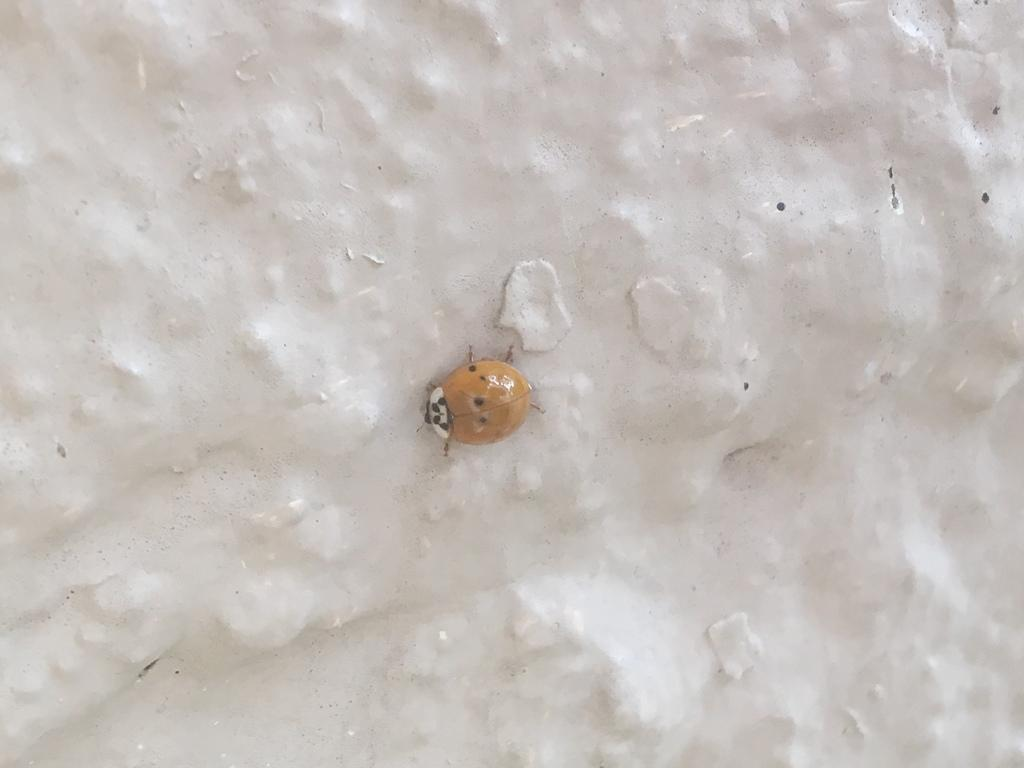ladybug: (417, 341, 555, 465)
